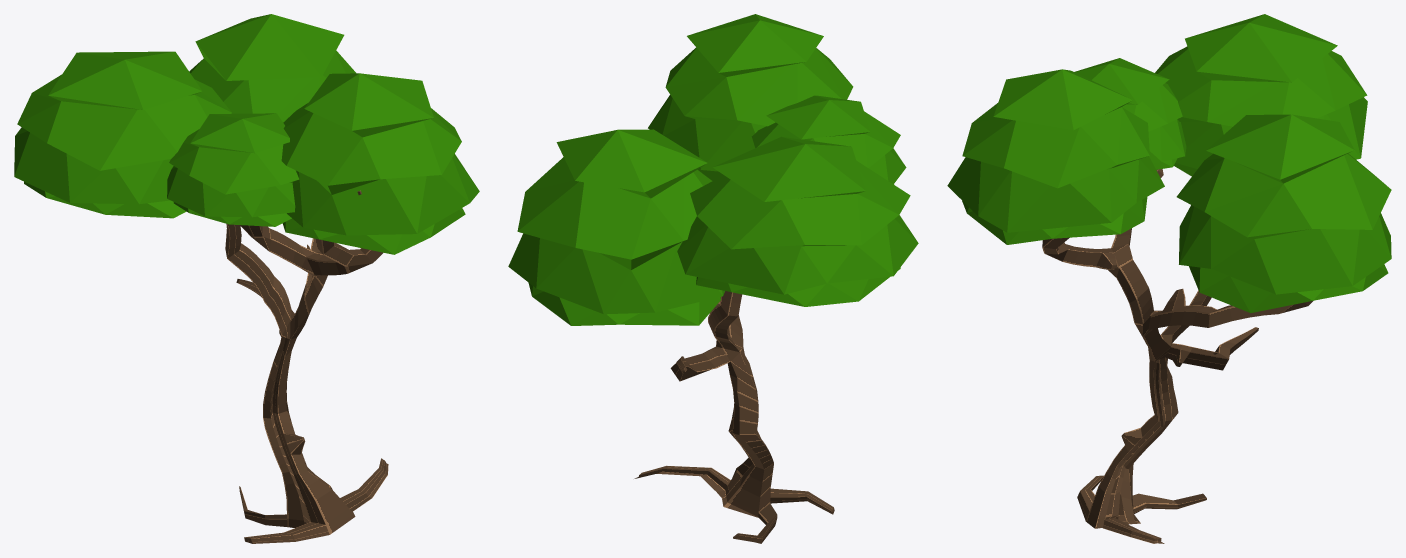
The model's file is arbre2.fbx.
The picture shows the model from 3 angles, left to right: view 1: azimuth 30°, elevation 25°; view 2: azimuth 150°, elevation 25°; view 3: azimuth 270°, elevation 25°; orthographic projection.
Parts seen in each view (by area): view 1: Icosphere.003, Icosphere.002, Cube, Icosphere.004, Icosphere.001; view 2: Icosphere.001, Icosphere.002, Icosphere.003, Cube, Icosphere.004; view 3: Icosphere.001, Icosphere.003, Icosphere.002, Cube, Icosphere.004.
Part boxes in pixels (<box>): Icosphere.003: <box>281,73,479,254</box>; Icosphere.002: <box>14,51,231,218</box>; Cube: <box>225,190,388,543</box>; Icosphere.004: <box>167,113,299,226</box>; Icosphere.001: <box>189,14,355,122</box>; Icosphere.001: <box>508,129,724,325</box>; Icosphere.002: <box>677,136,918,306</box>; Icosphere.003: <box>648,14,853,180</box>; Cube: <box>634,291,834,543</box>; Icosphere.004: <box>751,95,906,184</box>; Icosphere.001: <box>1176,114,1391,313</box>; Icosphere.003: <box>947,69,1164,244</box>; Icosphere.002: <box>1155,14,1367,176</box>; Cube: <box>1042,169,1313,543</box>; Icosphere.004: <box>1074,58,1186,169</box>.
Size of the model in its own units: 5046 by 6234 by 5374.
1 material, 1 textured.
